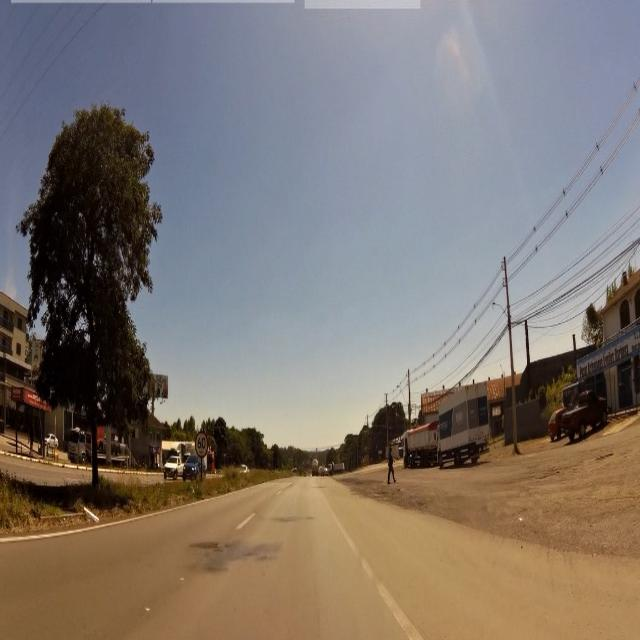R-19: (195, 431, 207, 458)
